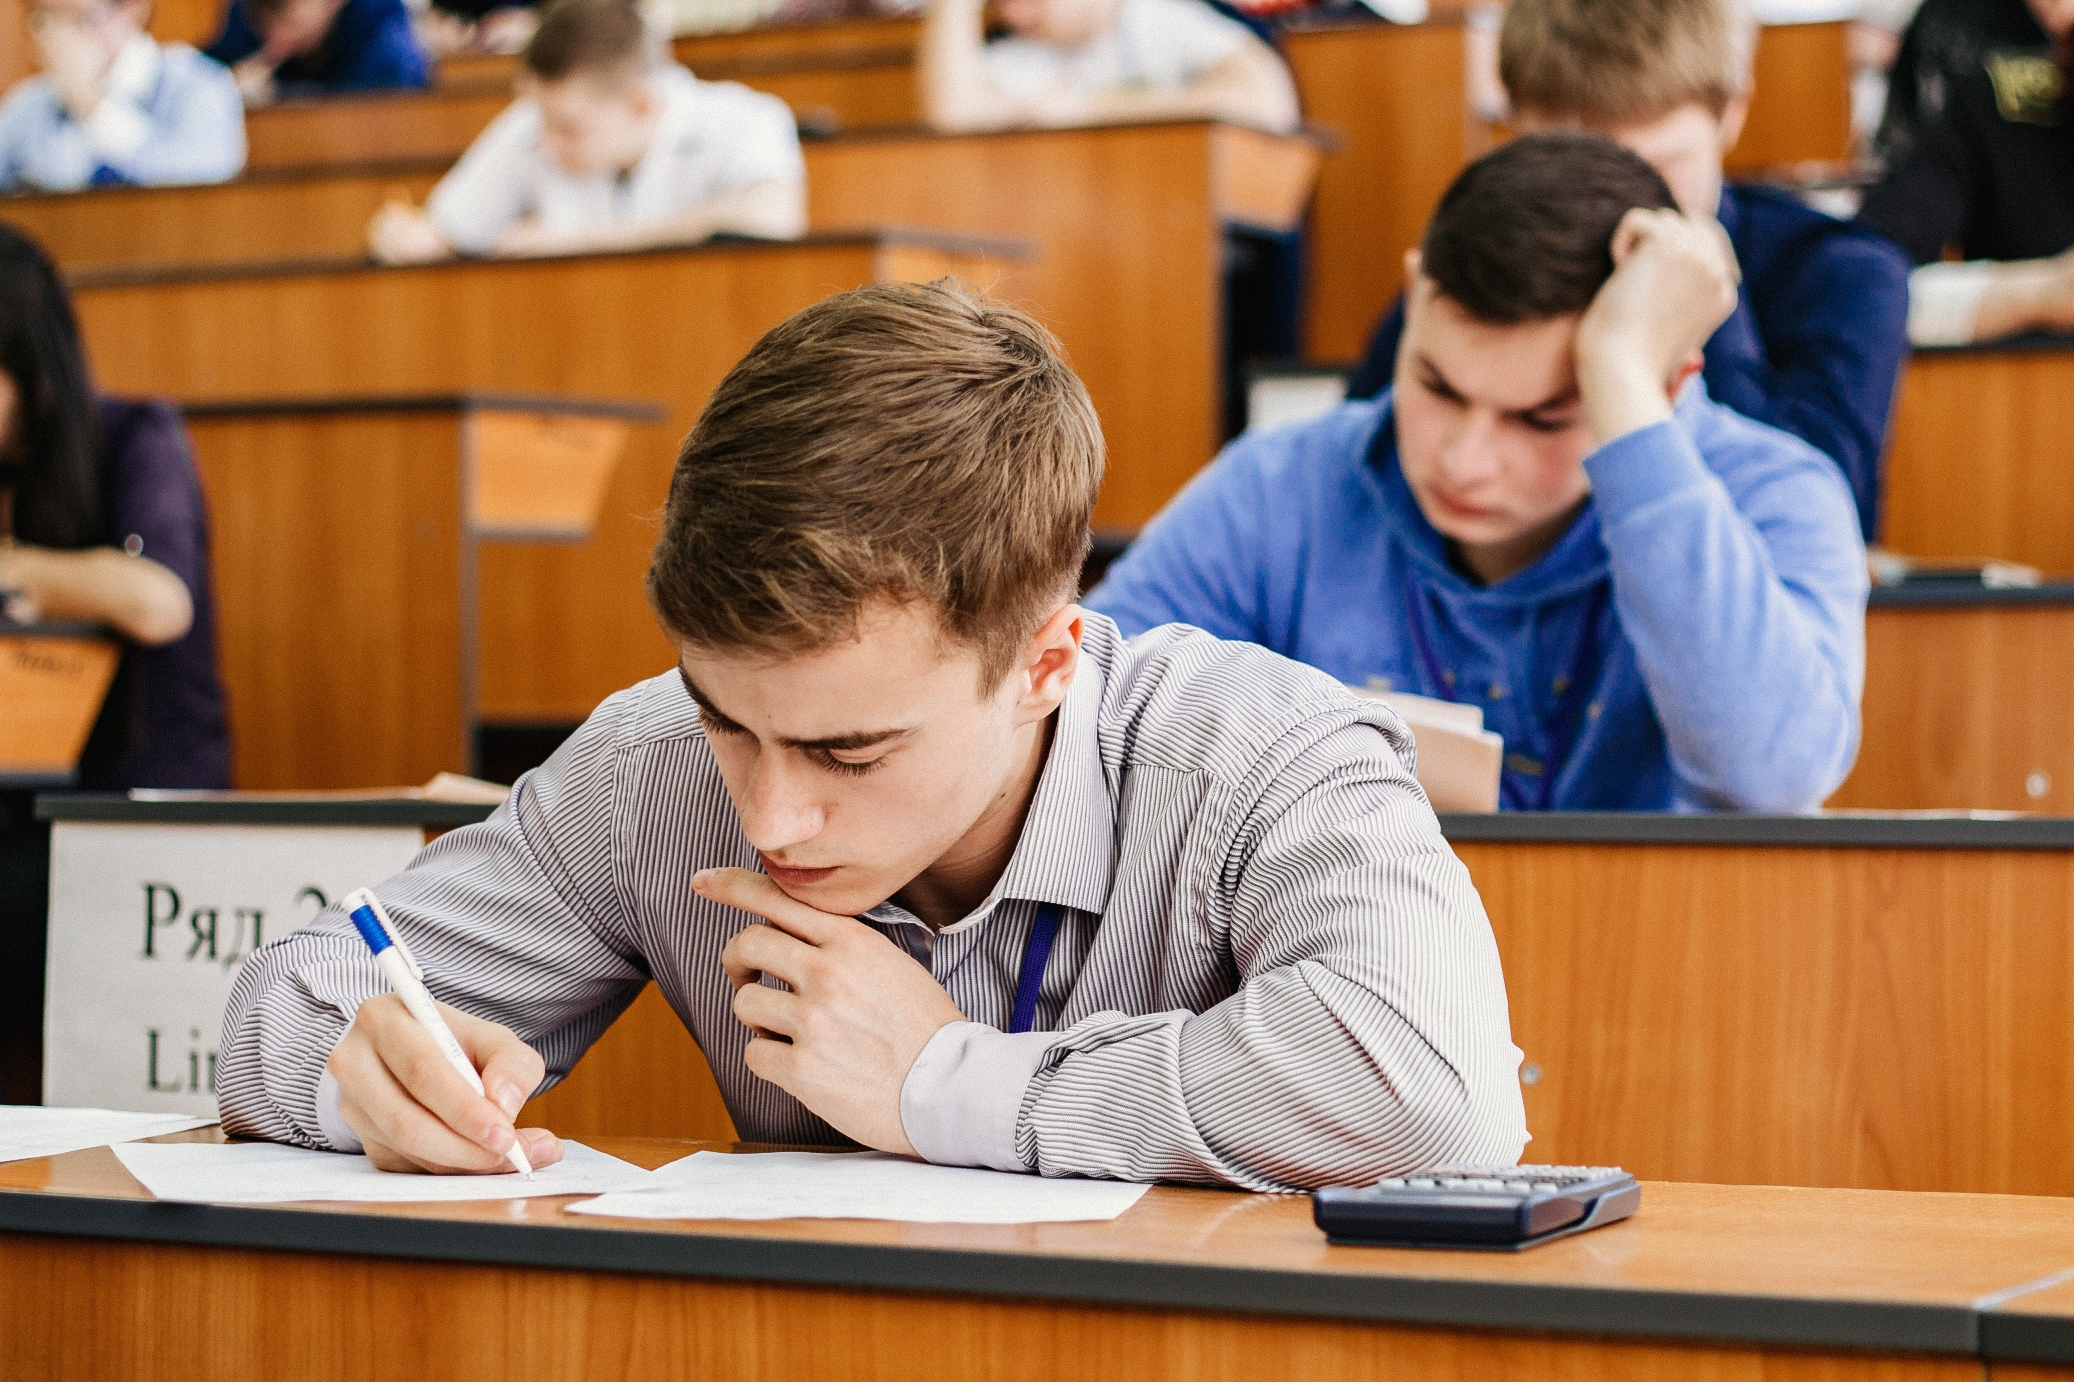students: (216, 279, 1535, 1166), (1071, 131, 1873, 815), (1366, 1, 1913, 554), (1, 206, 243, 788), (352, 1, 815, 259), (921, 1, 1308, 135), (2, 1, 258, 195)
